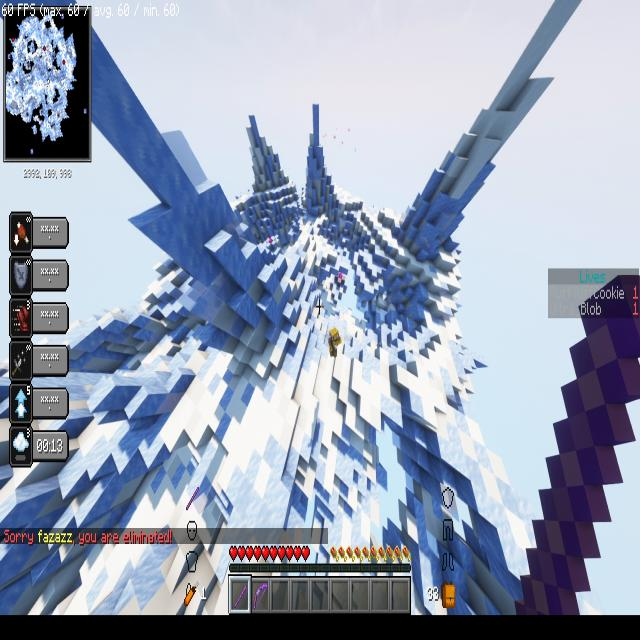Player: (324, 320, 346, 368)
